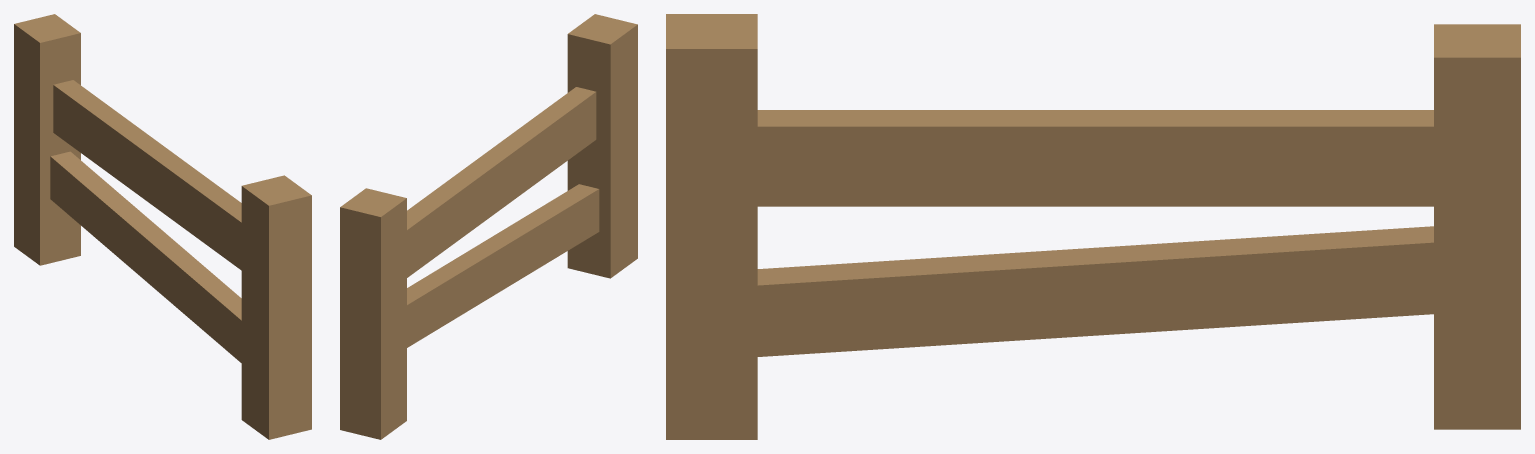
File: fence1LP.fbx
The picture shows the model from 3 angles, left to right: view 1: azimuth 30°, elevation 25°; view 2: azimuth 150°, elevation 25°; view 3: azimuth 270°, elevation 25°; orthographic projection. The views are drawn at different scales.
Parts seen in each view (by area): view 1: fence1; view 2: fence1; view 3: fence1.
Boxes of the visible parts, <box> form: fence1: <box>14,14,311,439</box>; fence1: <box>340,14,637,439</box>; fence1: <box>666,14,1520,439</box>.
Bounding box in the file's own units: 24.66 × 129 × 255.
